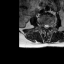CCS_normal: (45, 22, 47, 31)
LFS_normal: (49, 22, 51, 29)
LLS_normal: (47, 22, 49, 29)
RFS_normal: (41, 21, 43, 29)
RLS_normal: (43, 22, 45, 29)
